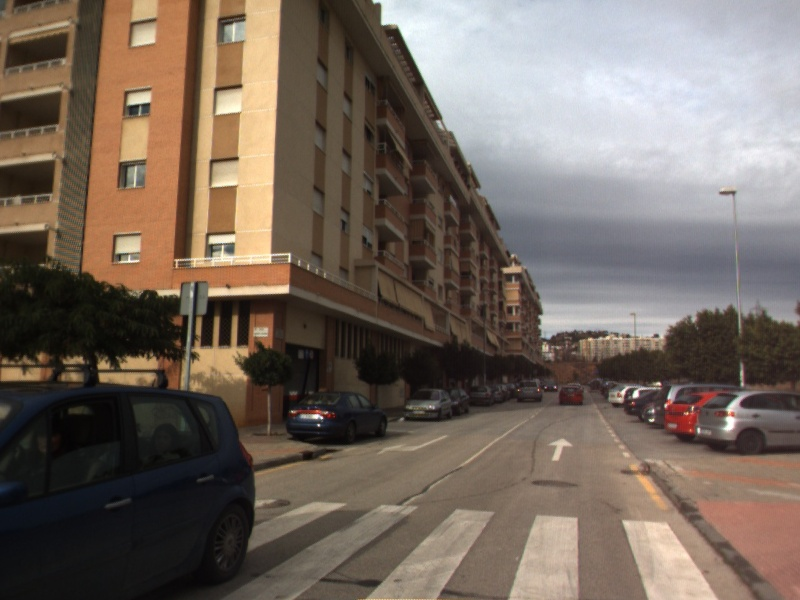STRAIGHT: (545, 436, 576, 463)
